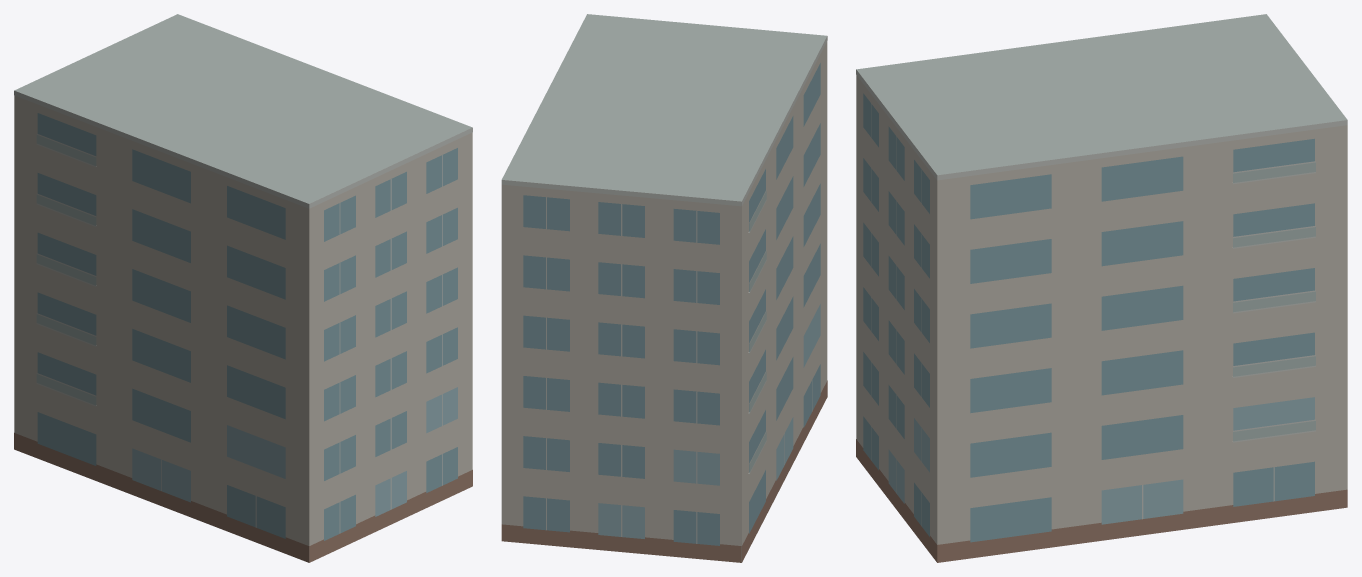
Rendered from survey-upis-32708763.glb.
3 views of the same model, side by side, from view 1: azimuth 30°, elevation 25°; view 2: azimuth 150°, elevation 25°; view 3: azimuth 270°, elevation 25° (orthographic). The views are drawn at different scales.
Parts seen in each view (by area): view 1: survey-upis-32708763.tmp; view 2: survey-upis-32708763.tmp; view 3: survey-upis-32708763.tmp.
Part boxes in pixels (x1=…): survey-upis-32708763.tmp: x1=14, y1=14, x2=472, y2=562; survey-upis-32708763.tmp: x1=501, y1=14, x2=827, y2=562; survey-upis-32708763.tmp: x1=856, y1=14, x2=1347, y2=562.
Bounding box in the file's own units: 16.39 × 18.35 × 21.1.
